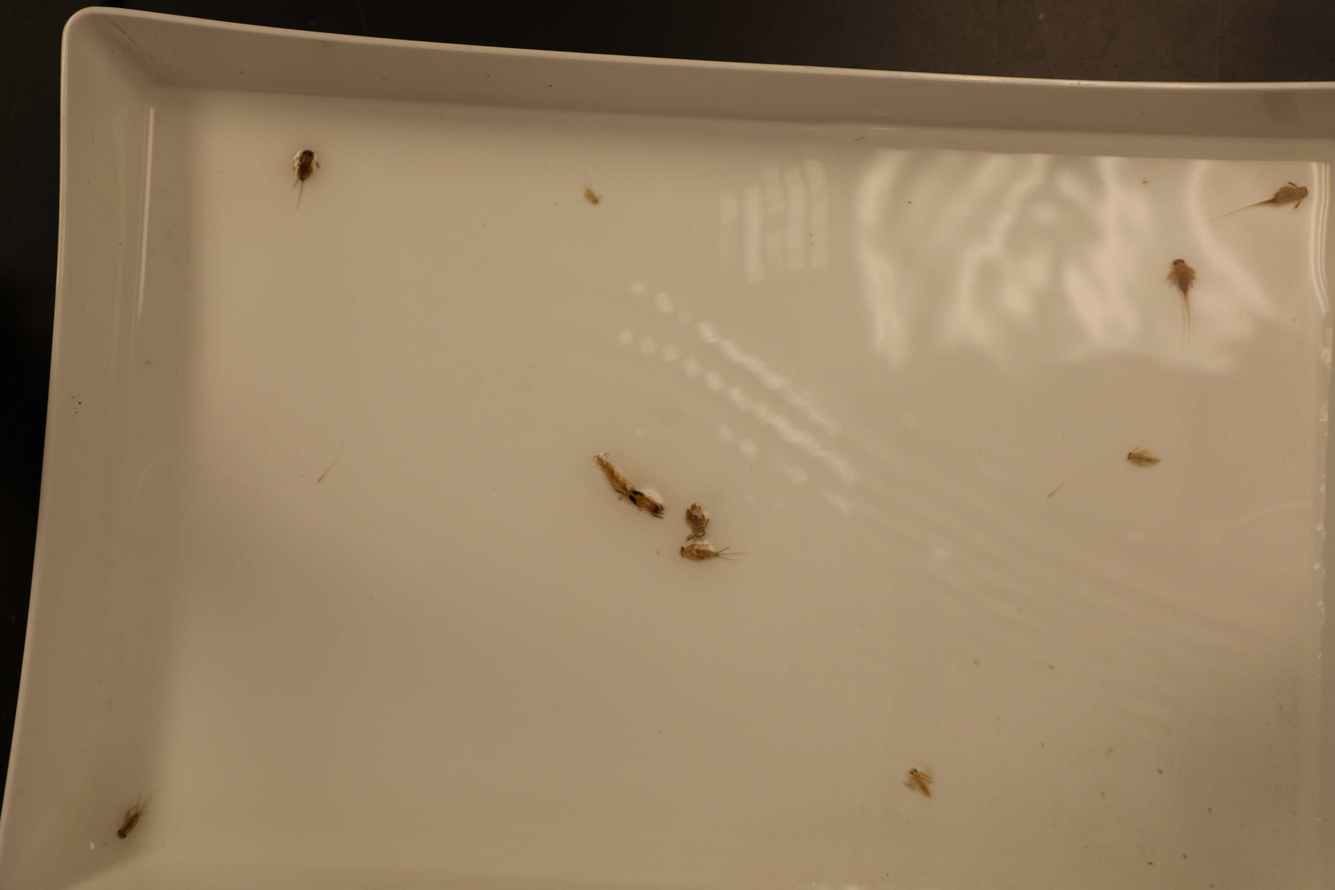Mayfly: (593, 451, 669, 520), (1220, 182, 1314, 221), (1161, 254, 1202, 332), (111, 791, 155, 842), (289, 149, 319, 208), (898, 761, 940, 802), (675, 548, 746, 570), (679, 507, 713, 545), (1120, 446, 1161, 472), (583, 185, 604, 208)
